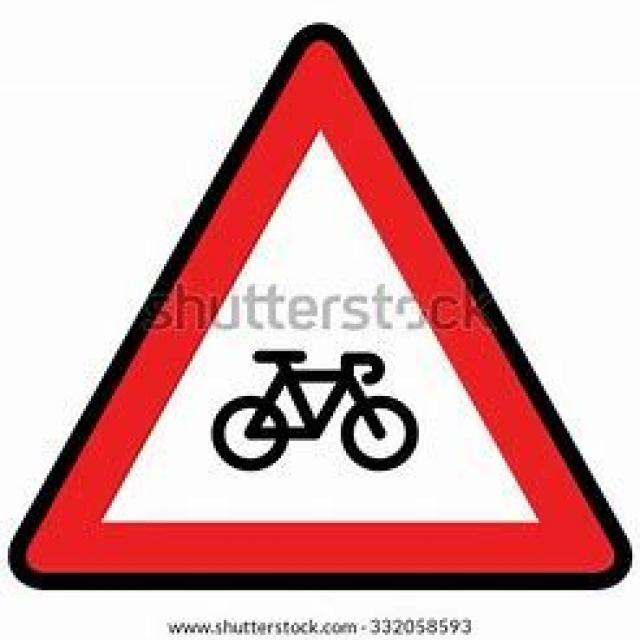CYCLE_CROSSING: (0, 20, 635, 588)
